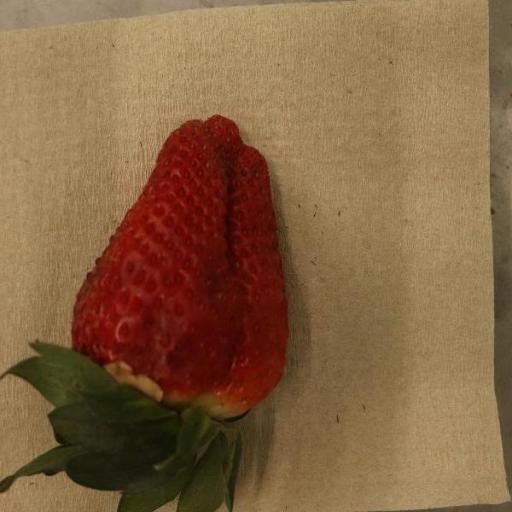Strawberry: (0, 116, 290, 512)
